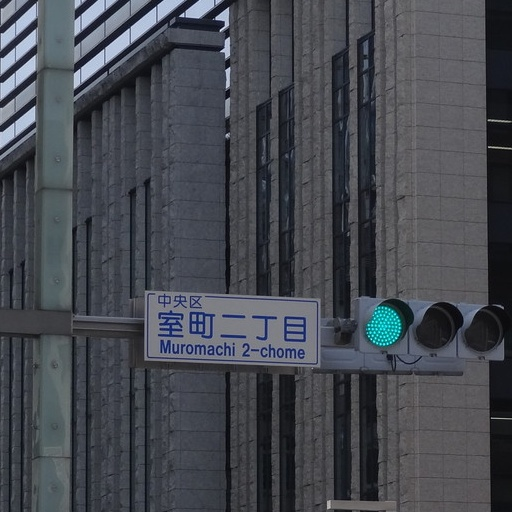Traffic_Signal_Blue: (355, 293, 504, 360)
